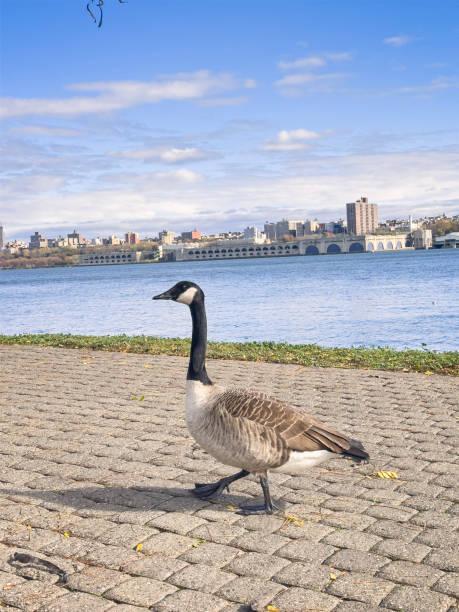Canadian-Goose: (154, 272, 366, 511)
